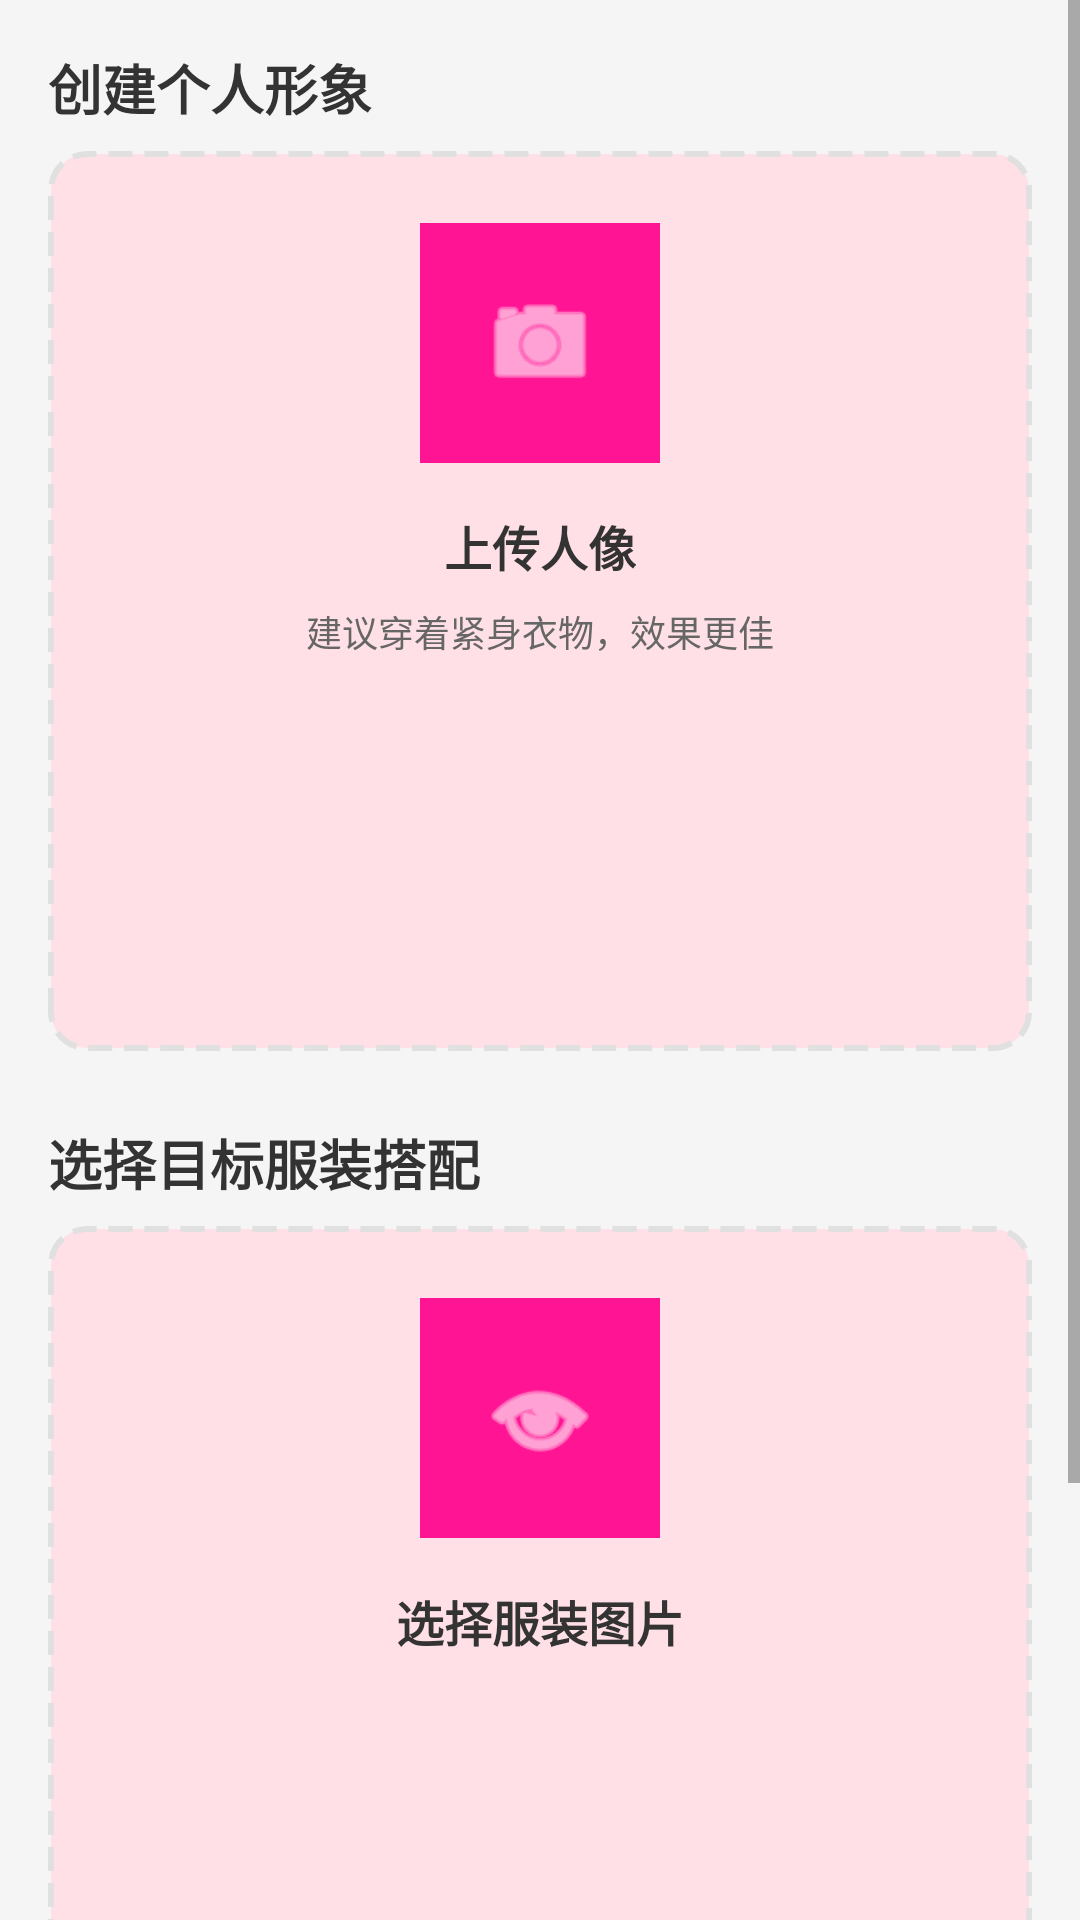

Named icons in this screenshot (1080 × 1920) and their centers, [x,y]:
camera: [540,341]
view: [540,1421]
